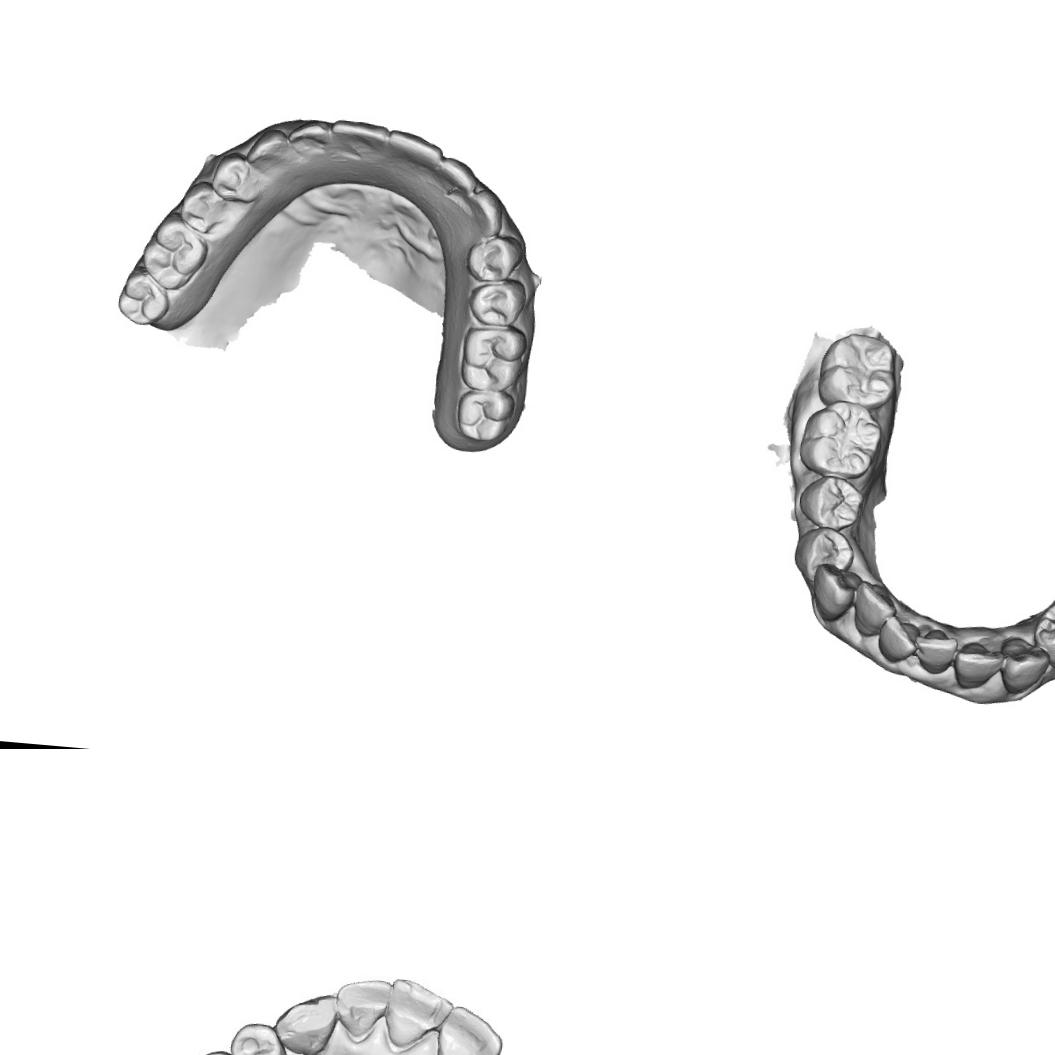canine: (271, 989, 338, 1055), (808, 561, 864, 626), (1000, 634, 1054, 700), (241, 120, 291, 179), (462, 186, 508, 238)
incisor: (382, 972, 458, 1052), (331, 973, 392, 1041), (433, 1001, 508, 1055), (327, 114, 394, 169), (380, 126, 445, 182), (949, 632, 1004, 692), (912, 621, 960, 678), (284, 112, 339, 161), (852, 580, 898, 637), (432, 153, 482, 199), (873, 614, 918, 665)
molar: (796, 396, 887, 484), (812, 328, 902, 410), (136, 207, 213, 294), (456, 317, 536, 400), (452, 385, 520, 447), (113, 265, 174, 328)
premolar: (794, 467, 864, 534), (790, 519, 856, 586), (460, 230, 527, 289), (172, 178, 234, 239), (464, 273, 528, 329), (210, 146, 264, 209), (221, 1017, 291, 1055), (1030, 598, 1055, 673)
